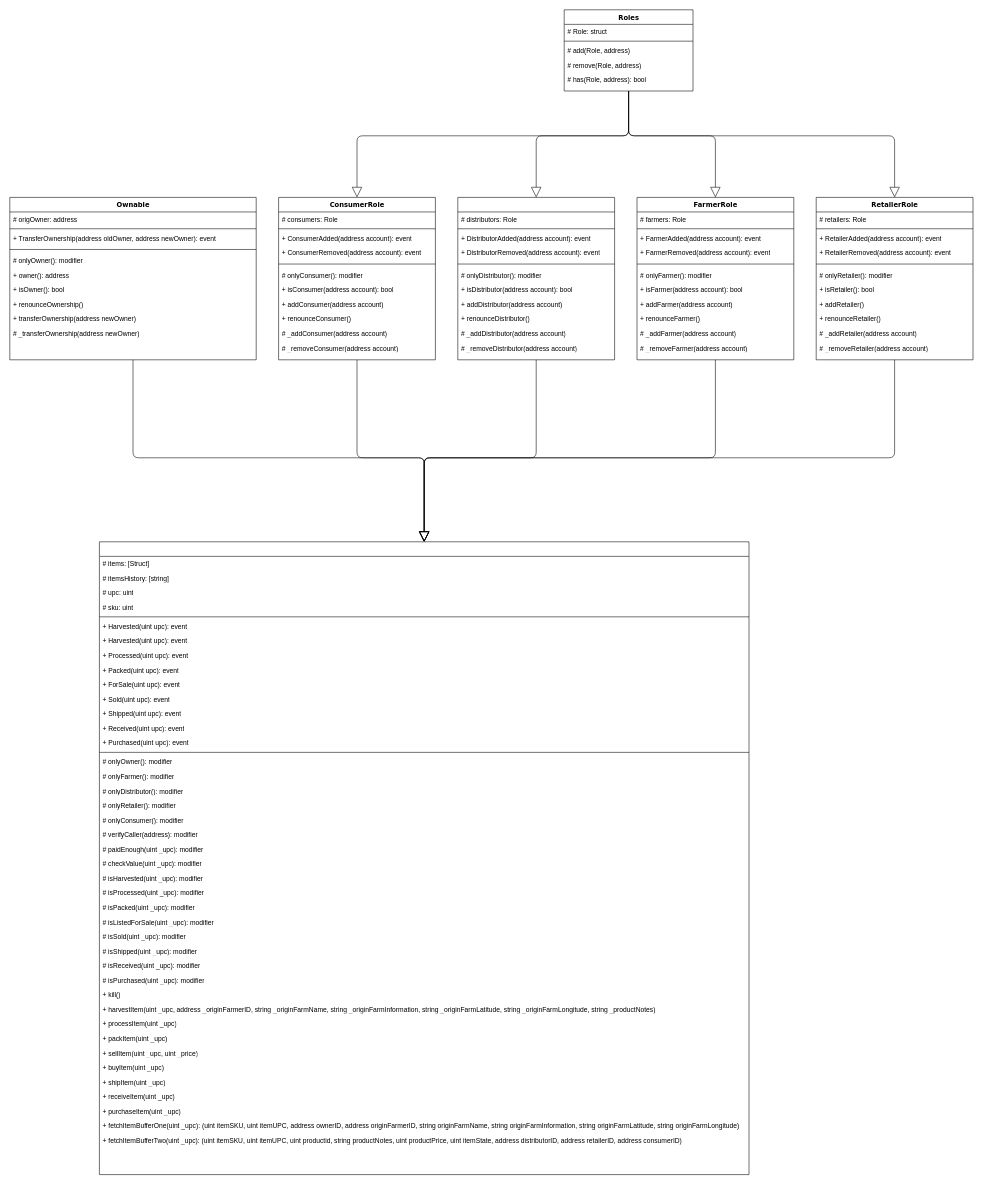
Image size: 983x1184. Some labels were removed from this diagram. The shapes that lost their labels are listed below. From the top down, each one's box as (x1, y1, x2, y2) in pixels, then its label:
(457, 197, 615, 360): DistributorRole
(99, 541, 749, 1175): SupplyChain
